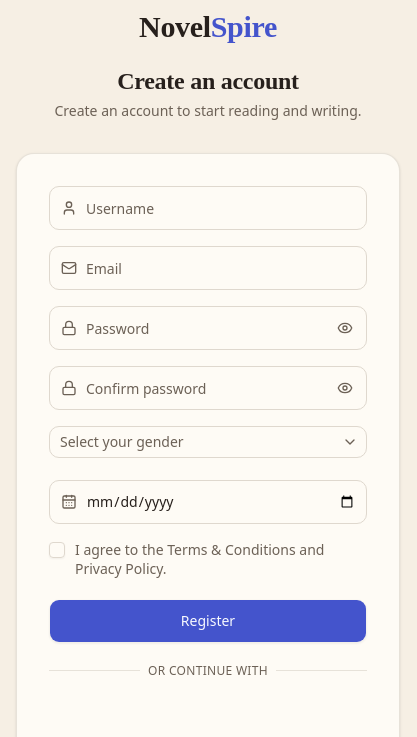
Test: RegisterPage › blocks submission until the terms are accepted
Type "new_reader" into the field labelled "Username".
click(208, 208); type("new_reader")  # box [49,186,367,230]
Type "reader@example.com" into the field labelled "Email".
click(208, 268); type("reader@example.com")  # box [49,246,367,290]
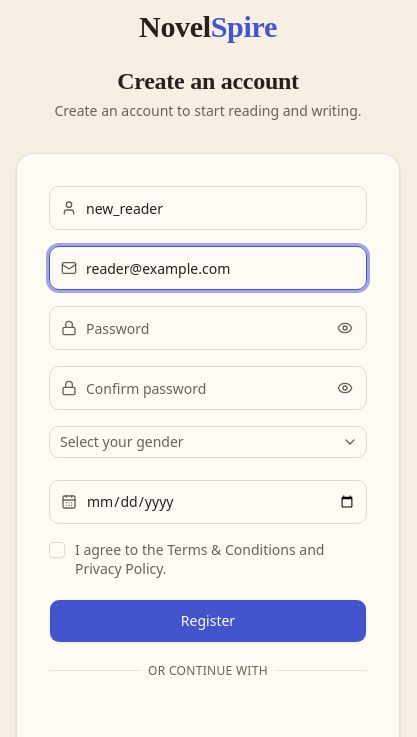
Type "Password123!" into the password field labelled "Password".
click(208, 328); type("Password123!")  # box [49,306,367,350]
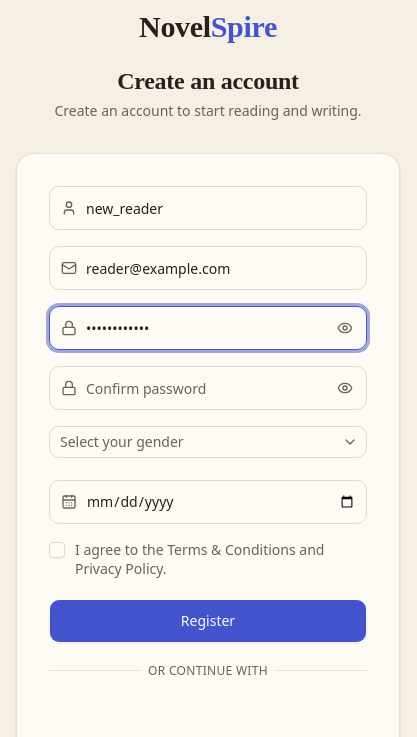
Type "Password123!" into the password field labelled "Confirm password".
click(208, 388); type("Password123!")  # box [49,366,367,410]
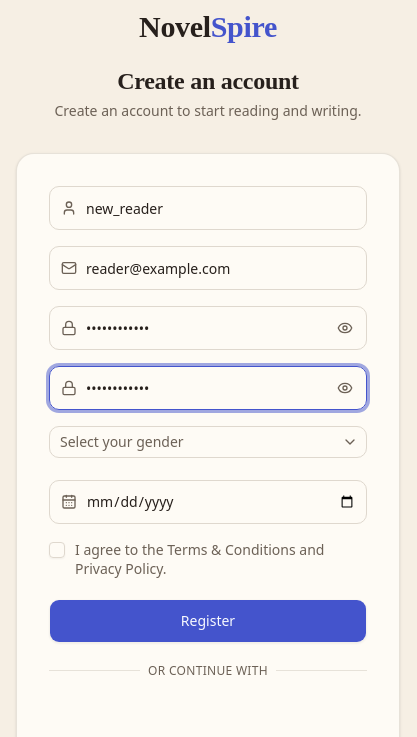
Click the dropdown labelled "gender".
click(122, 442)  # box [49,426,367,458]
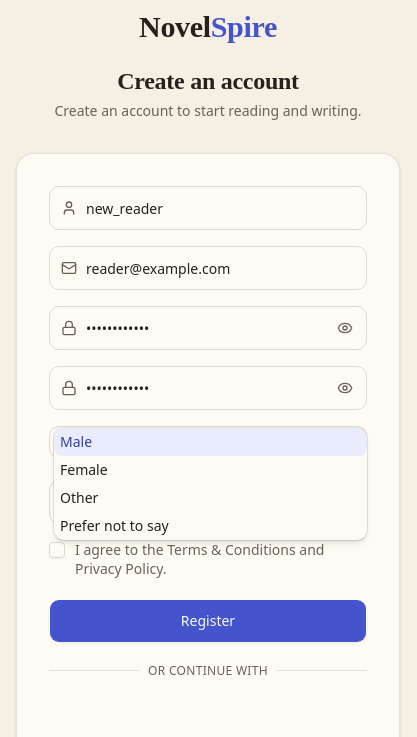
Click the option "Female".
click(84, 470)  # box [60,460,108,479]
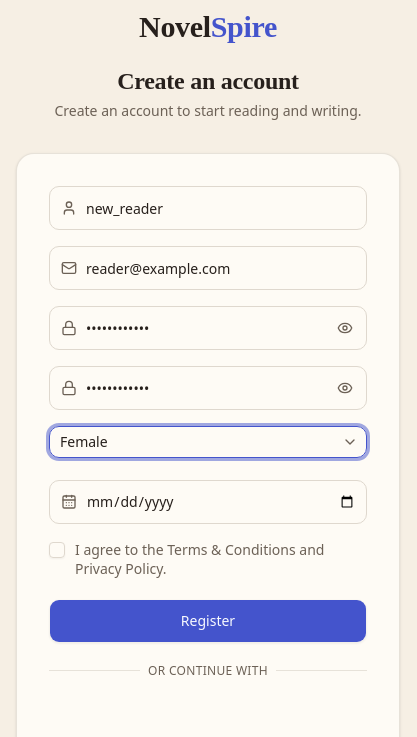
Type "2000-01-15" into the date field labelled "Birthday".
click(208, 502); type("2000-01-15")  # box [49,480,367,524]
Click the button "Register".
click(208, 620)  # box [49,598,367,642]
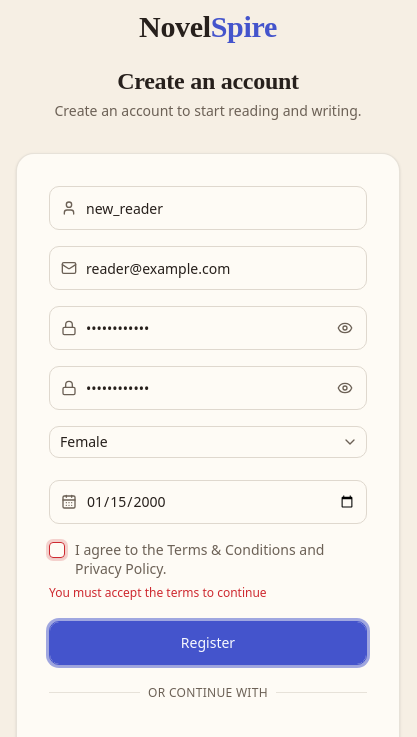
Check: the text "You must accept the terms to continue" is shown, box [49,584,267,600]
